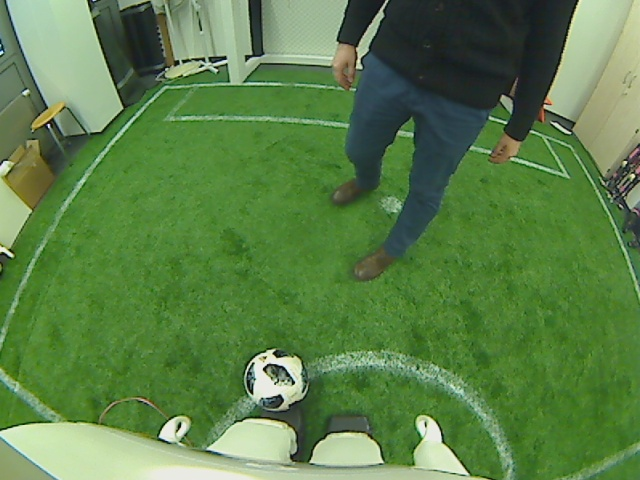ball: (241, 346, 311, 410)
